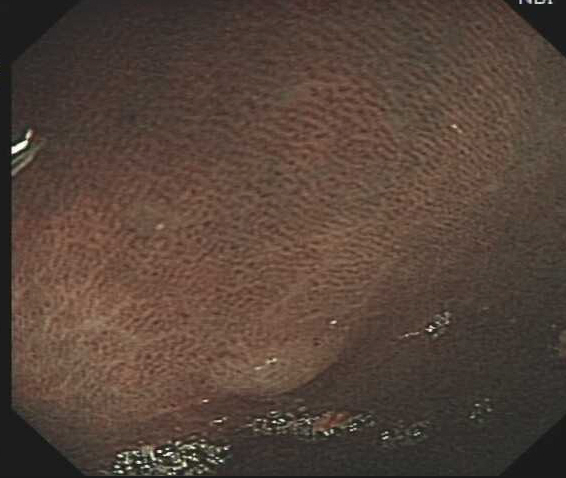others: (205, 345, 344, 402)
